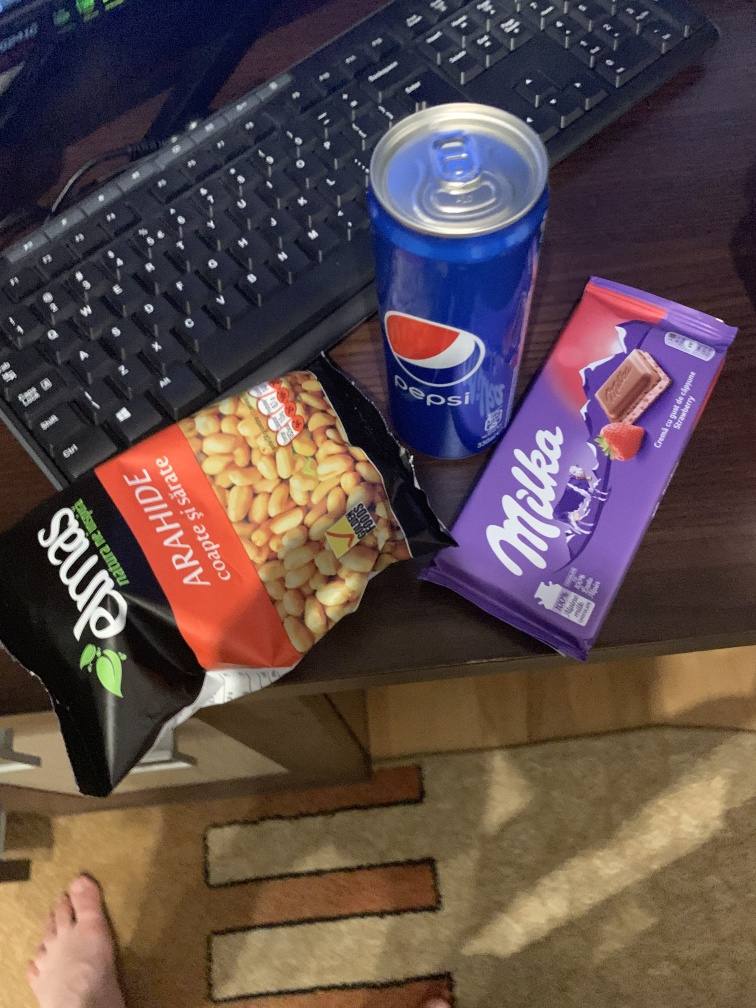milka: (421, 266, 741, 685)
peanuts: (7, 348, 458, 794)
pepsi: (369, 100, 555, 472)
